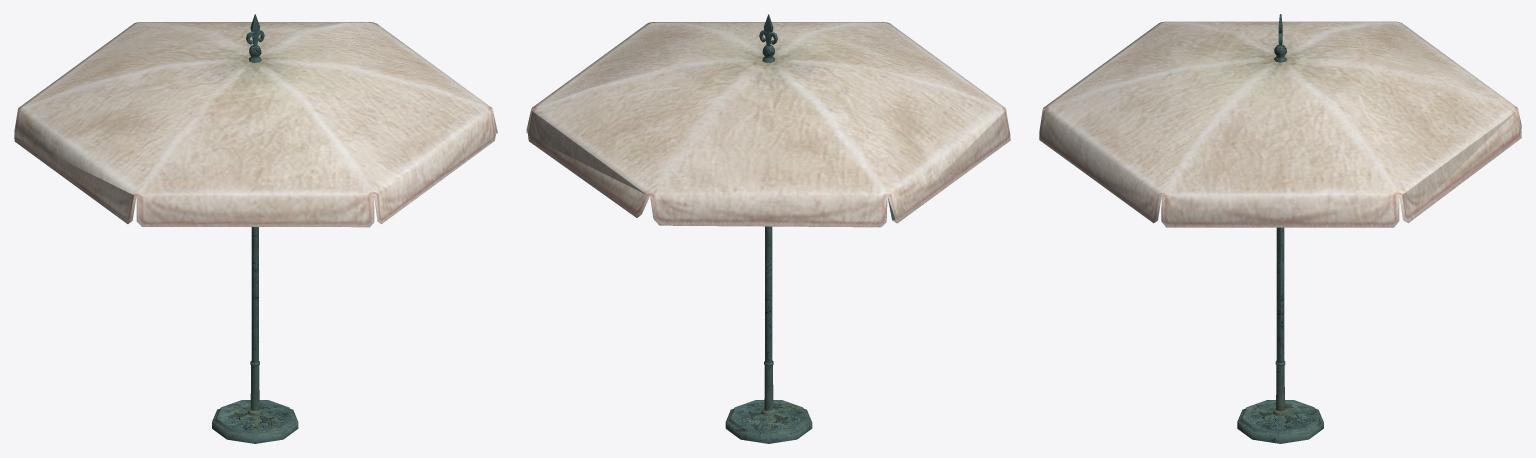
The model's file is Parasol01.FBX.
3 views of the same model, side by side, from view 1: azimuth 30°, elevation 25°; view 2: azimuth 150°, elevation 25°; view 3: azimuth 270°, elevation 25° (orthographic).
Visible parts, largest first — view 1: LV_Spechia_Object_Parasol_SM_LOK; view 2: LV_Spechia_Object_Parasol_SM_LOK; view 3: LV_Spechia_Object_Parasol_SM_LOK.
Part boxes in pixels (left/top/right/bottom): LV_Spechia_Object_Parasol_SM_LOK: left=14, top=14, right=497, bottom=443; LV_Spechia_Object_Parasol_SM_LOK: left=526, top=14, right=1010, bottom=443; LV_Spechia_Object_Parasol_SM_LOK: left=1039, top=14, right=1521, bottom=443.
Size of the model in its own units: 91.6 by 97.24 by 103.
